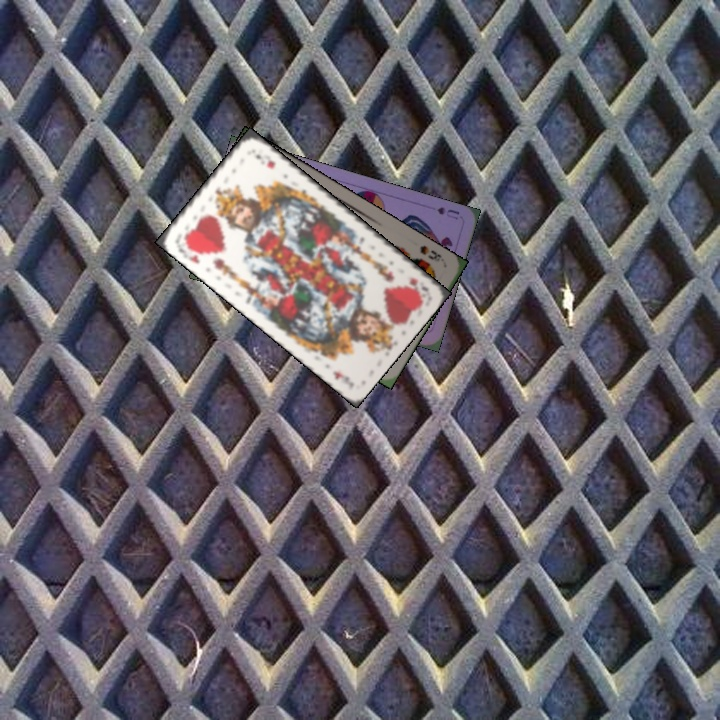HK: (173, 234, 205, 266), (405, 273, 431, 298)
S8: (416, 241, 448, 269)
SU: (433, 203, 462, 223)
